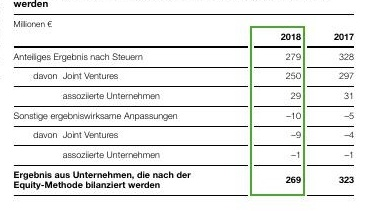table: (0, 0, 369, 211)
